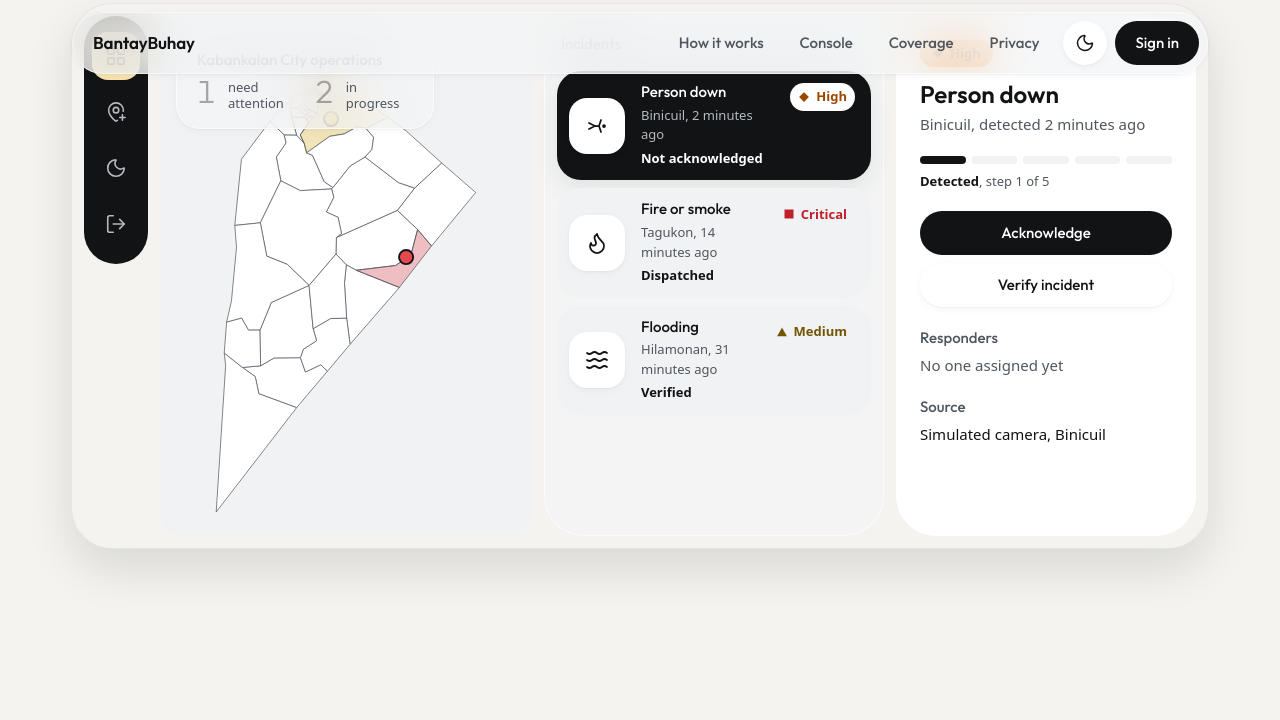
Test: Landing › selects an incident in the console preview
The image size is (1280, 720).
(page scrolled)
Click the button "Flooding Hilamonan, 31 minutes ago Verified Medium" at x=714, y=360, box [557, 306, 871, 415]
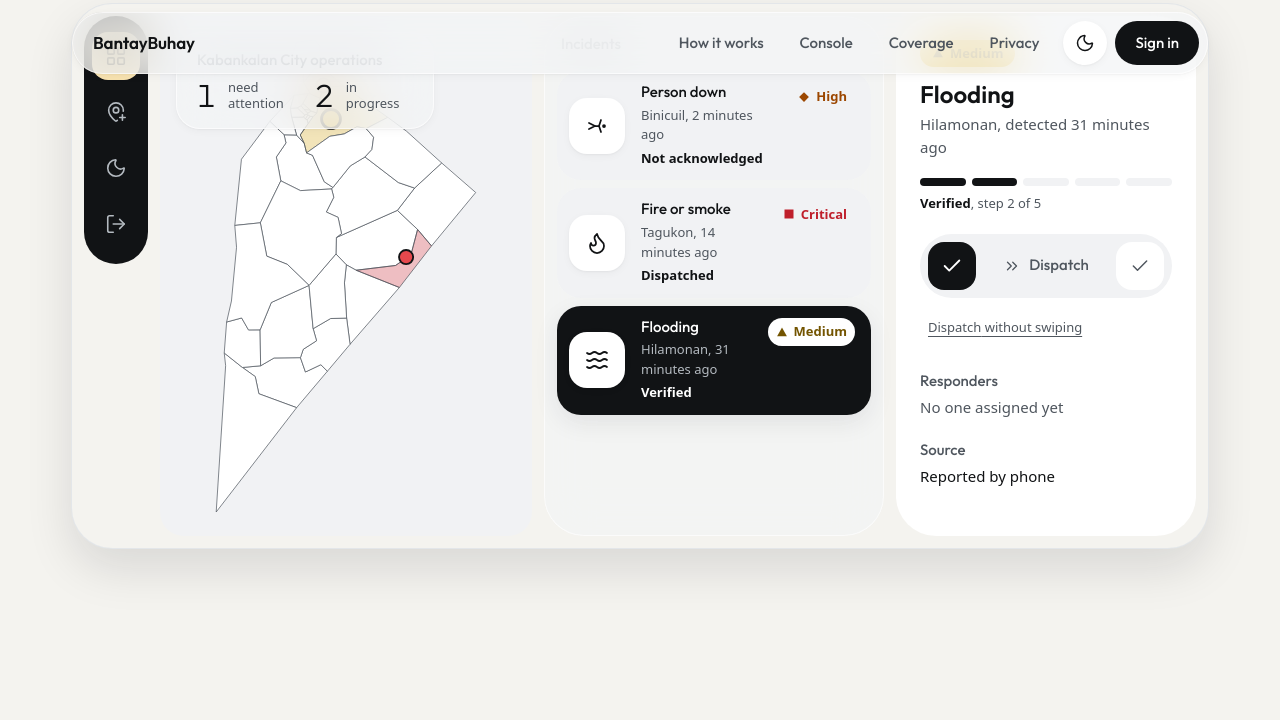
Expected: the button "Flooding Hilamonan, 31 minutes ago Verified Medium" is marked as current, [557, 306, 871, 415]
